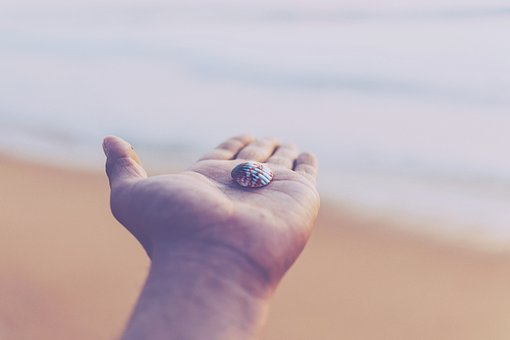palm: (184, 155, 297, 243)
